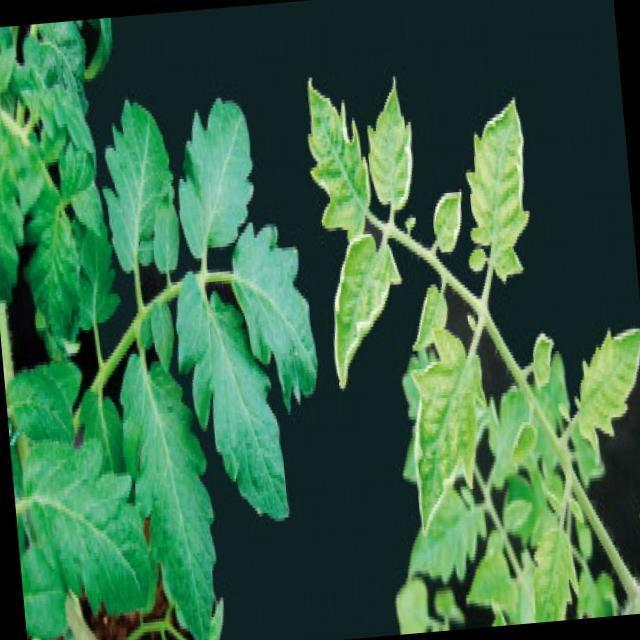Healthy Leaf: (174, 276, 294, 548), (119, 348, 225, 640), (223, 224, 329, 410), (96, 91, 188, 282), (176, 84, 258, 263)
Yellow Curl Virus: (402, 320, 498, 538), (458, 100, 542, 284), (323, 237, 408, 391), (302, 73, 371, 241), (563, 321, 640, 444), (361, 64, 417, 207), (527, 520, 582, 622), (406, 278, 454, 356), (428, 184, 464, 255), (526, 320, 560, 394)
